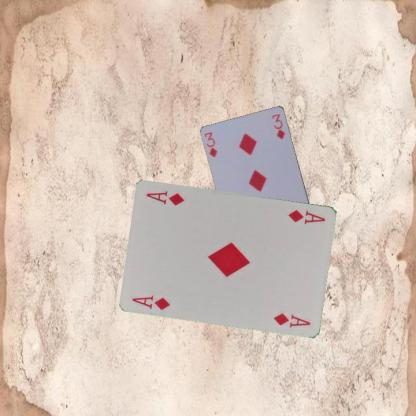3d: (202, 129, 219, 159)
Ad: (130, 292, 172, 312), (286, 207, 327, 226)
